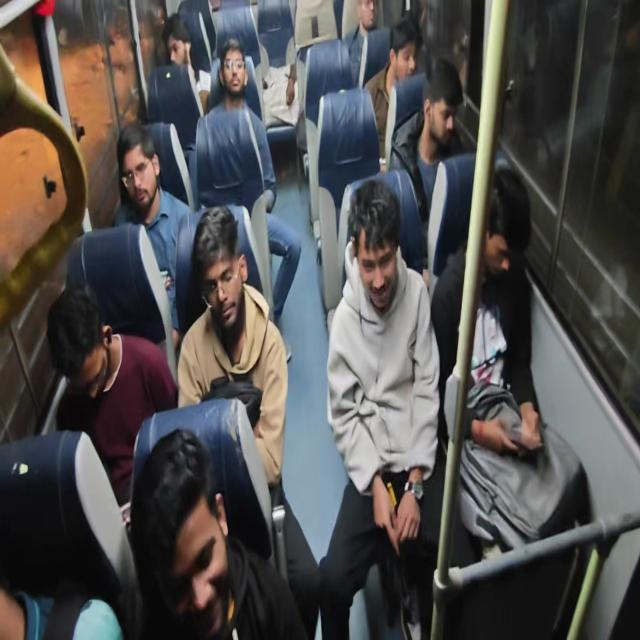person: (26, 2, 586, 637), (430, 165, 591, 558), (176, 205, 320, 636), (319, 178, 441, 638), (129, 428, 308, 638), (195, 36, 302, 354), (46, 279, 178, 512), (111, 122, 199, 339), (388, 57, 466, 251), (65, 220, 177, 352), (362, 16, 420, 169), (0, 586, 124, 639), (101, 5, 146, 131), (160, 12, 210, 116), (342, 0, 390, 89)
